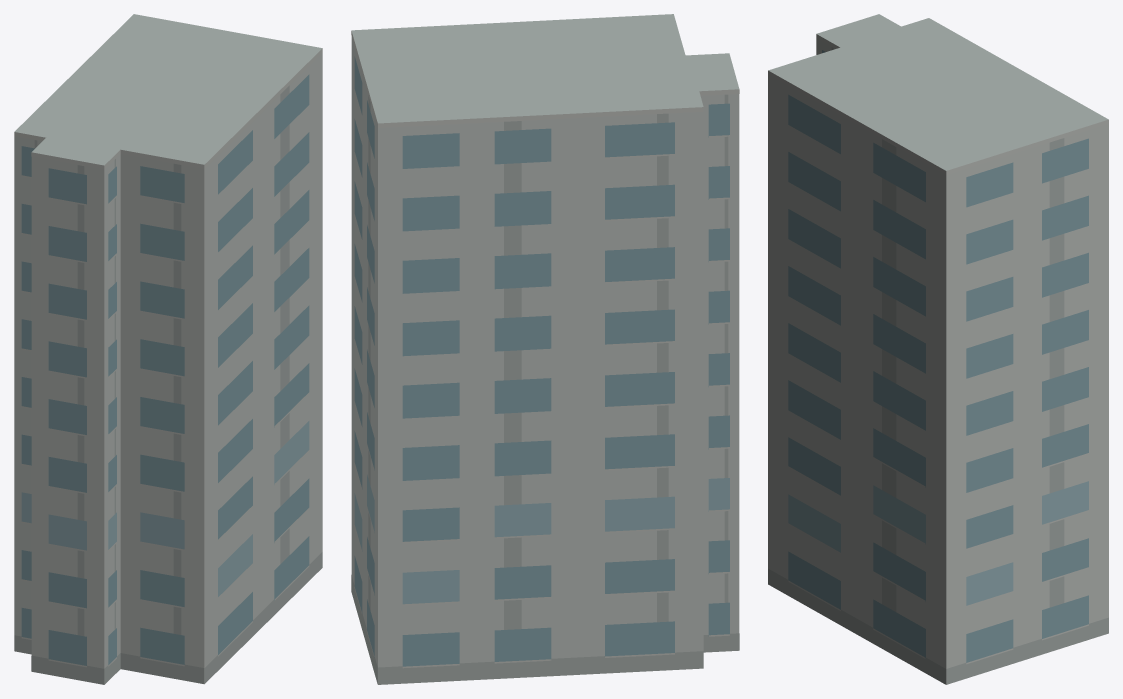
File: residential-33307795-c125-4186-9e37-02a3e2d28538.glb
The picture shows the model from 3 angles, left to right: view 1: azimuth 30°, elevation 25°; view 2: azimuth 150°, elevation 25°; view 3: azimuth 270°, elevation 25°; orthographic projection. The views are drawn at different scales.
Visible parts, largest first — view 1: residential-33307795-c125-4186-9e37-02a3e2d28538.tmp; view 2: residential-33307795-c125-4186-9e37-02a3e2d28538.tmp; view 3: residential-33307795-c125-4186-9e37-02a3e2d28538.tmp.
Boxes of the visible parts, x1,y1,x2,y2 form: residential-33307795-c125-4186-9e37-02a3e2d28538.tmp: (14, 14, 322, 684); residential-33307795-c125-4186-9e37-02a3e2d28538.tmp: (351, 14, 739, 684); residential-33307795-c125-4186-9e37-02a3e2d28538.tmp: (768, 14, 1108, 684).
Bounding box in the file's own units: 19 × 29 × 17.43.
